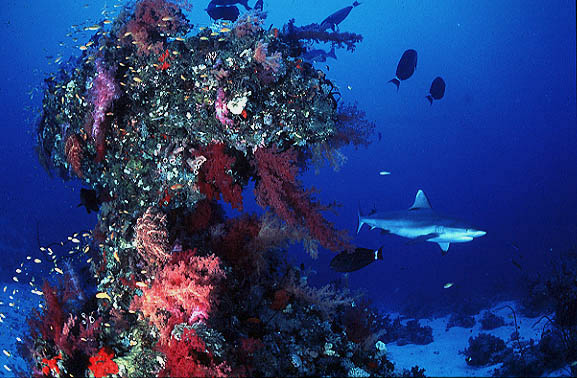Carcharhinus_amblyrhynchos: (347, 188, 498, 255)
